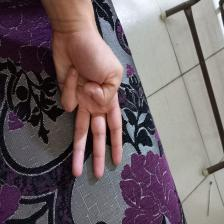five: (54, 29, 127, 179)
